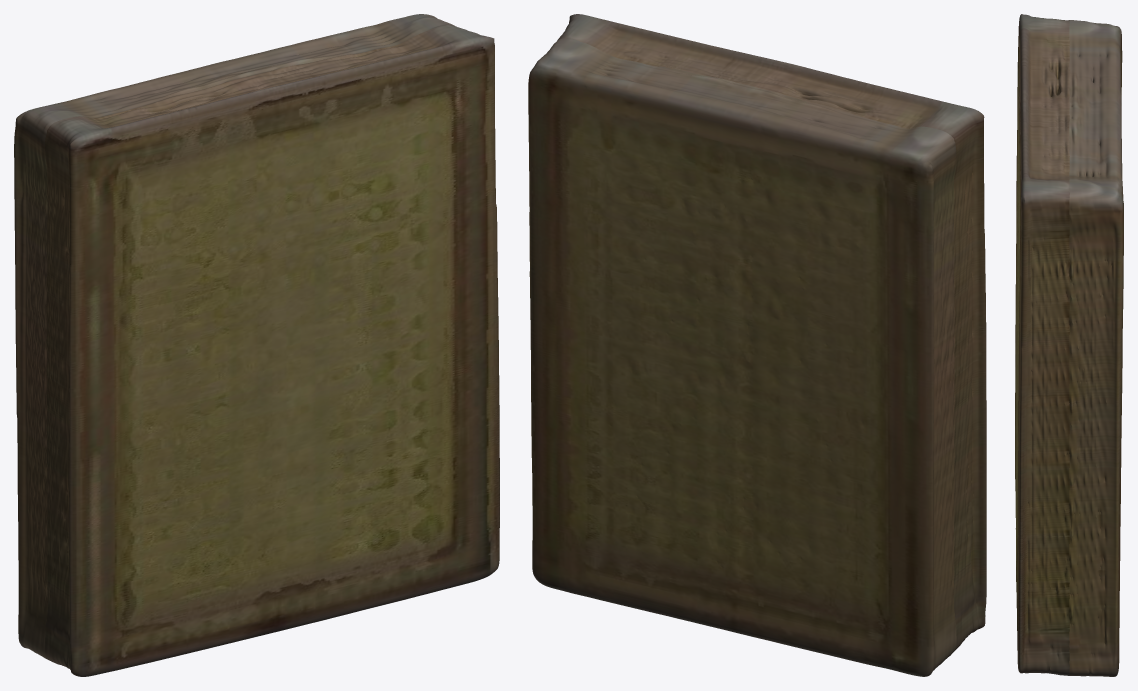
File: kfl-2277.glb
The picture shows the model from 3 angles, left to right: view 1: azimuth 30°, elevation 25°; view 2: azimuth 150°, elevation 25°; view 3: azimuth 270°, elevation 25°; orthographic projection. The views are drawn at different scales.
Parts seen in each view (by area): view 1: geometry_0; view 2: geometry_0; view 3: geometry_0.
Part boxes in pixels (<box>): geometry_0: <box>14,14,499,676</box>; geometry_0: <box>528,14,986,676</box>; geometry_0: <box>1015,14,1123,676</box>.
Size of the model in its own units: 0.8141 by 0.9977 by 0.1995.
1 material, 1 textured.
